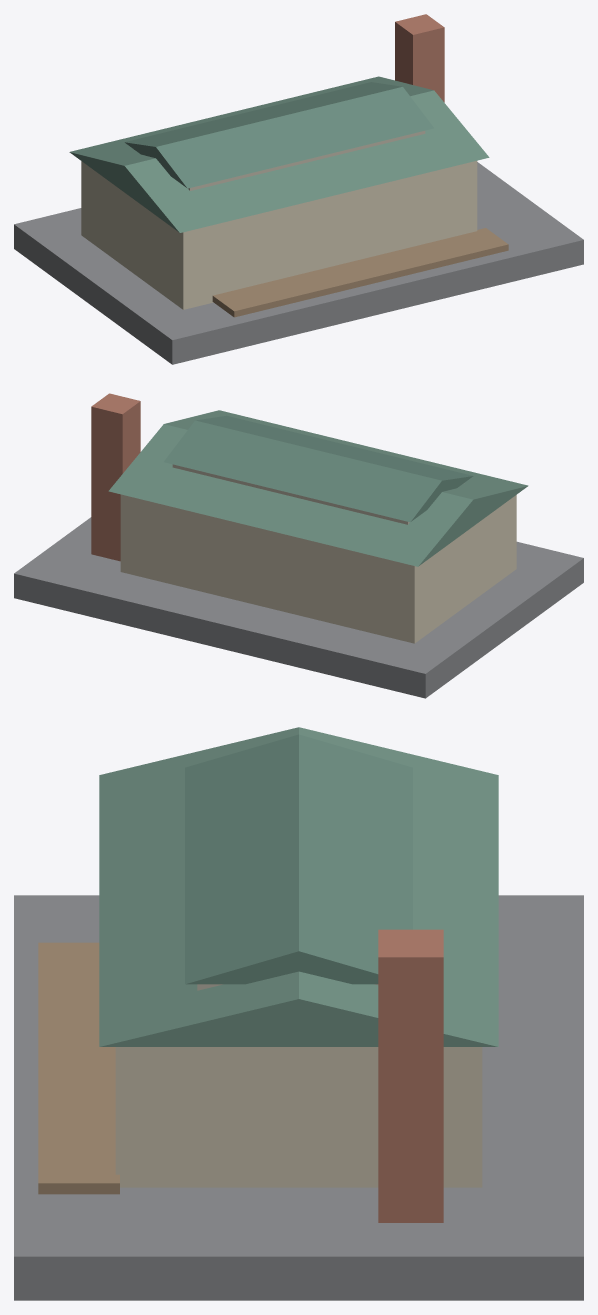
File: lm_122_nha_may_che_co_tram_hanh_1927_phan_xuong_say_che_olong_cau_dat.glb
3 views of the same model, one above another, from view 1: azimuth 30°, elevation 25°; view 2: azimuth 150°, elevation 25°; view 3: azimuth 270°, elevation 25° (orthographic). The views are drawn at different scales.
Visible parts, largest first — view 1: lm_122; view 2: lm_122; view 3: lm_122.
Boxes of the visible parts, box(x1,y1,x2,y2) form: lm_122: box(14, 14, 583, 364); lm_122: box(14, 393, 583, 698); lm_122: box(14, 727, 583, 1300).
Bounding box in the file's own units: 42 × 16.8 × 28.
